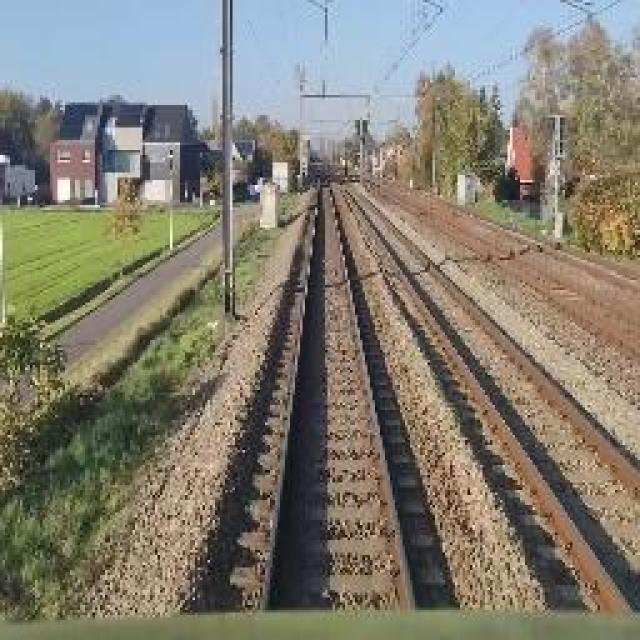rail: (333, 169, 640, 614), (199, 171, 458, 611)
